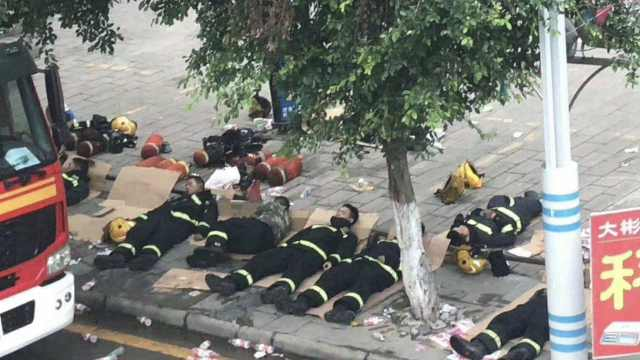fall: (242, 136, 308, 194)
